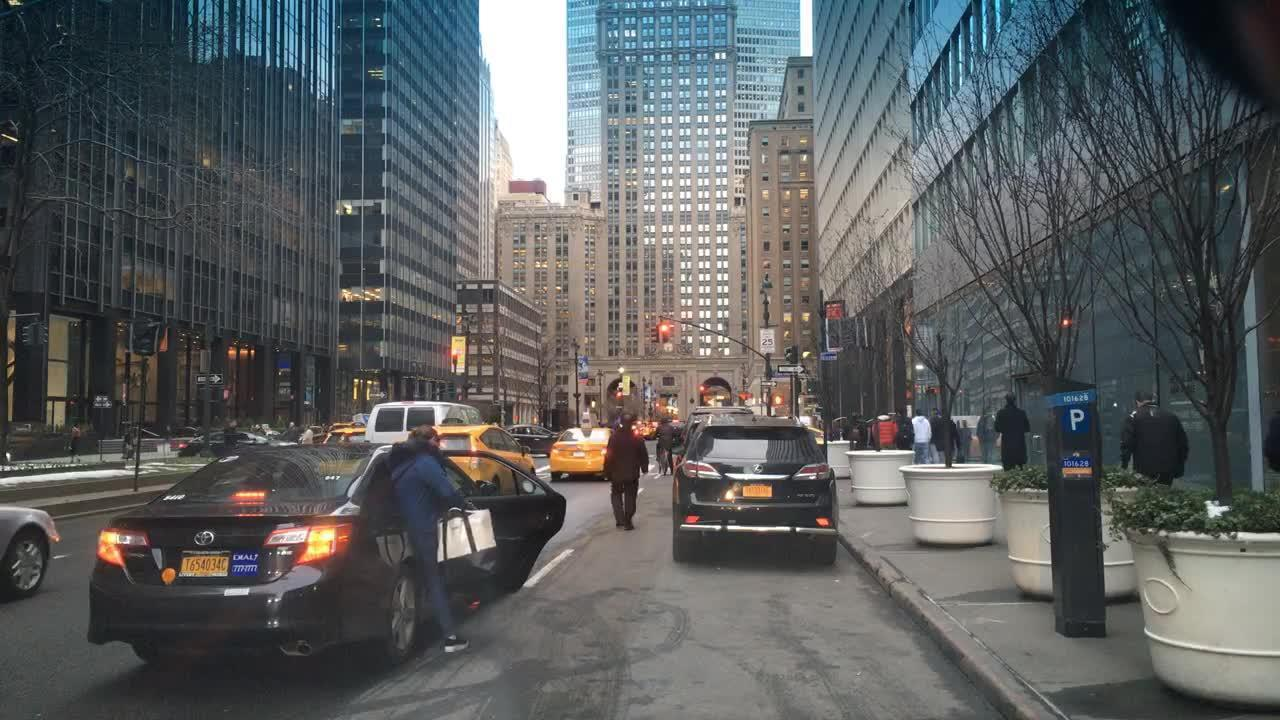Toyota: (190, 525, 220, 553)
lexus: (750, 462, 766, 475)
